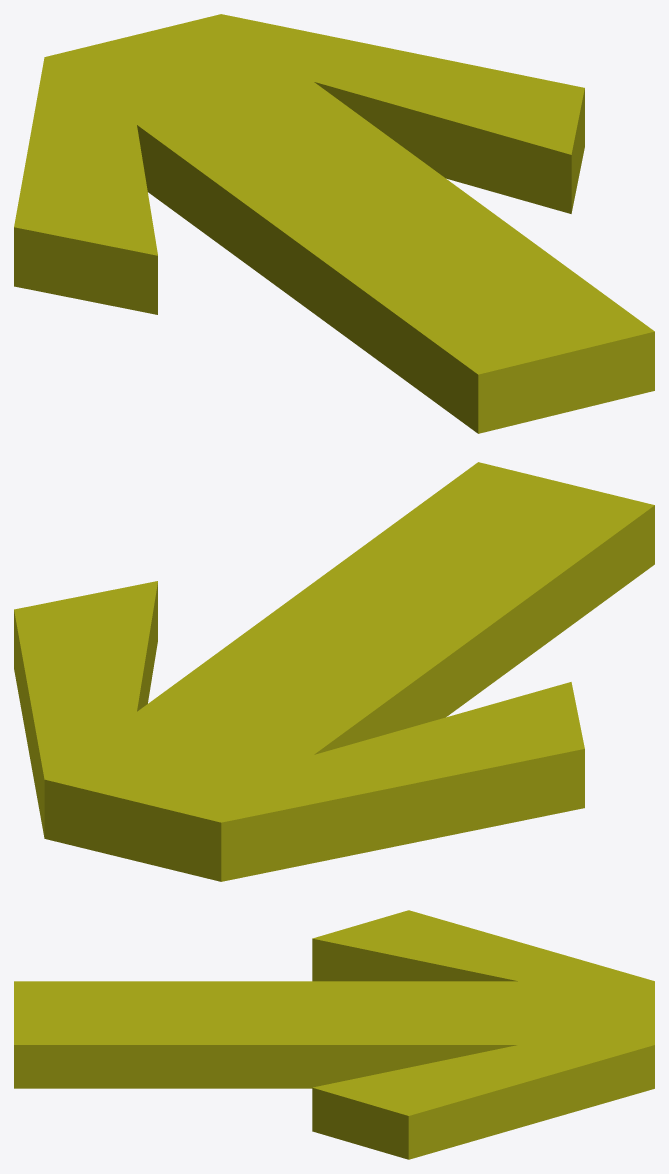
The model's file is arrow.fbx.
The picture shows the model from 3 angles, top to bottom: view 1: azimuth 30°, elevation 25°; view 2: azimuth 150°, elevation 25°; view 3: azimuth 270°, elevation 25°; orthographic projection. The views are drawn at different scales.
Parts seen in each view (by area): view 1: Cube.001; view 2: Cube.001; view 3: Cube.001.
Part boxes in pixels (x1,y1,x2,y2): Cube.001: (14,14,654,433); Cube.001: (14,462,654,881); Cube.001: (14,910,654,1159).
Bounding box in the file's own units: 12922 × 1282 × 17003.
